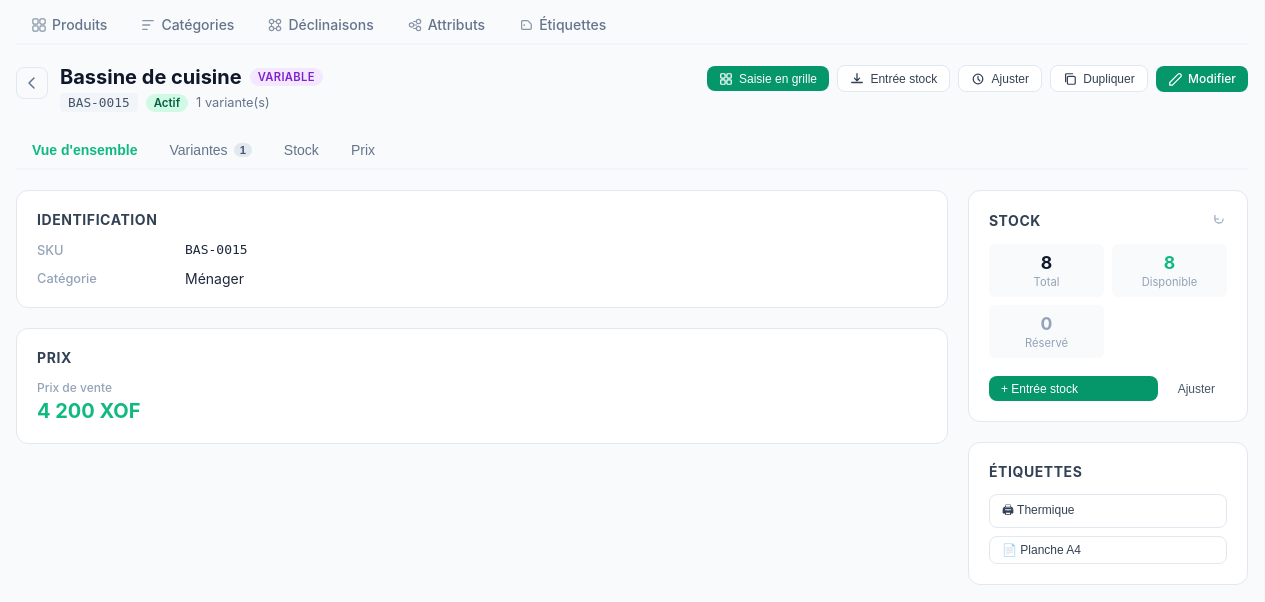
Test: ProductShowPage › lists variants with their per-variant available stock
The image size is (1265, 602).
Note: Switch to the Variants tab
Click the button with class "show-tab" showing "Variantes 1" at (211, 151), box top-left (154, 132), bottom-right (268, 170)
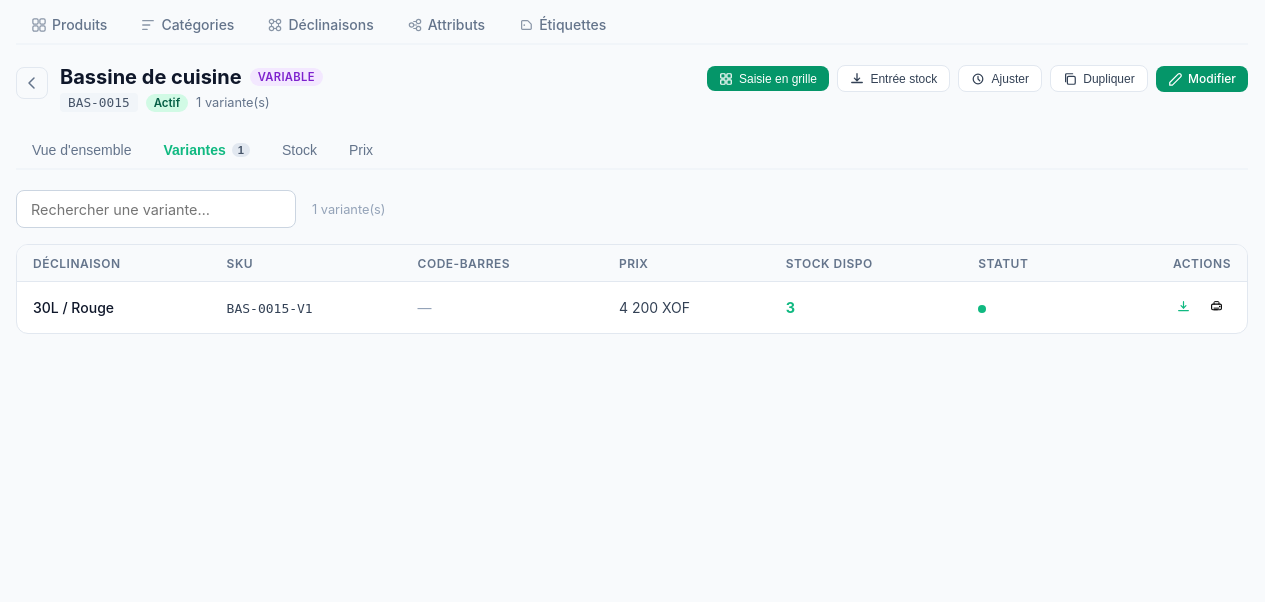
Check: the text "30L / Rouge" is shown, box top-left (33, 299), bottom-right (114, 316)
Check: the text "BAS-0015-V1" is shown, box top-left (227, 301), bottom-right (313, 316)
